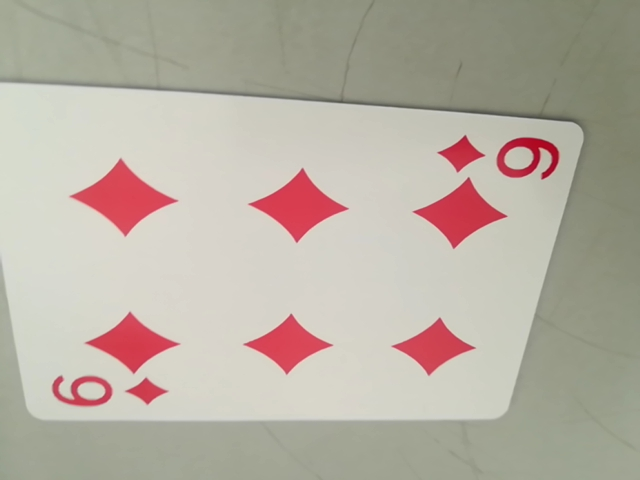fk 6: (434, 129, 561, 182), (44, 365, 170, 415)
